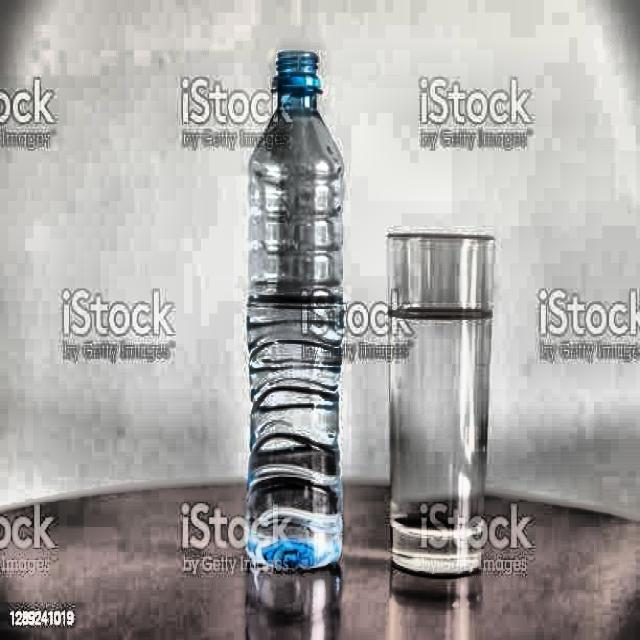Bottles: (236, 34, 355, 583)
